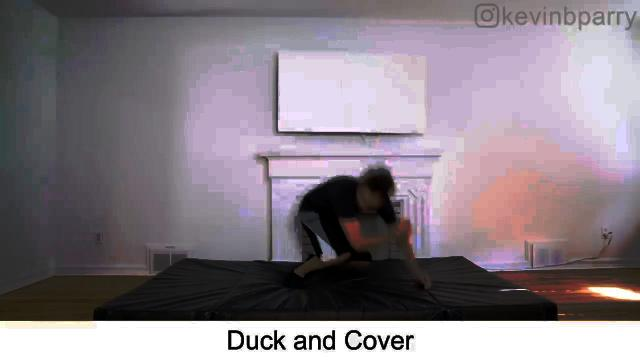jatuh: (274, 166, 442, 308)
